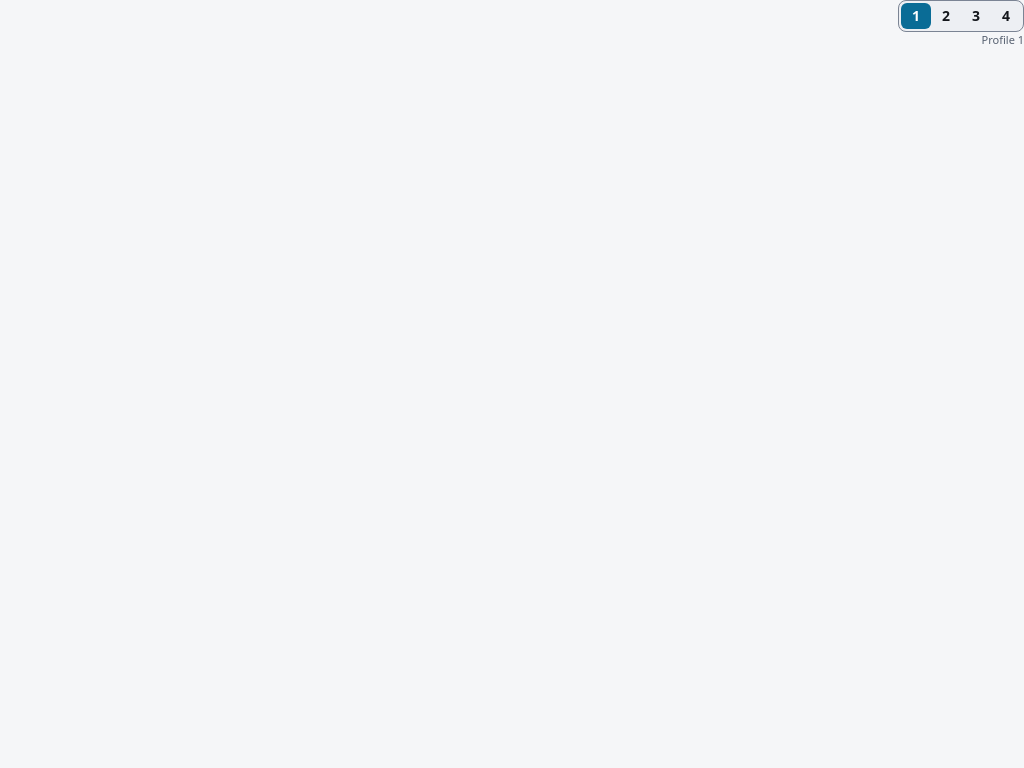
Test: the profile-switch confirmation › lists the unwritten drafts per tab
Click the radio button labelled "2". click: [946, 16]
box: [931,3,961,29]
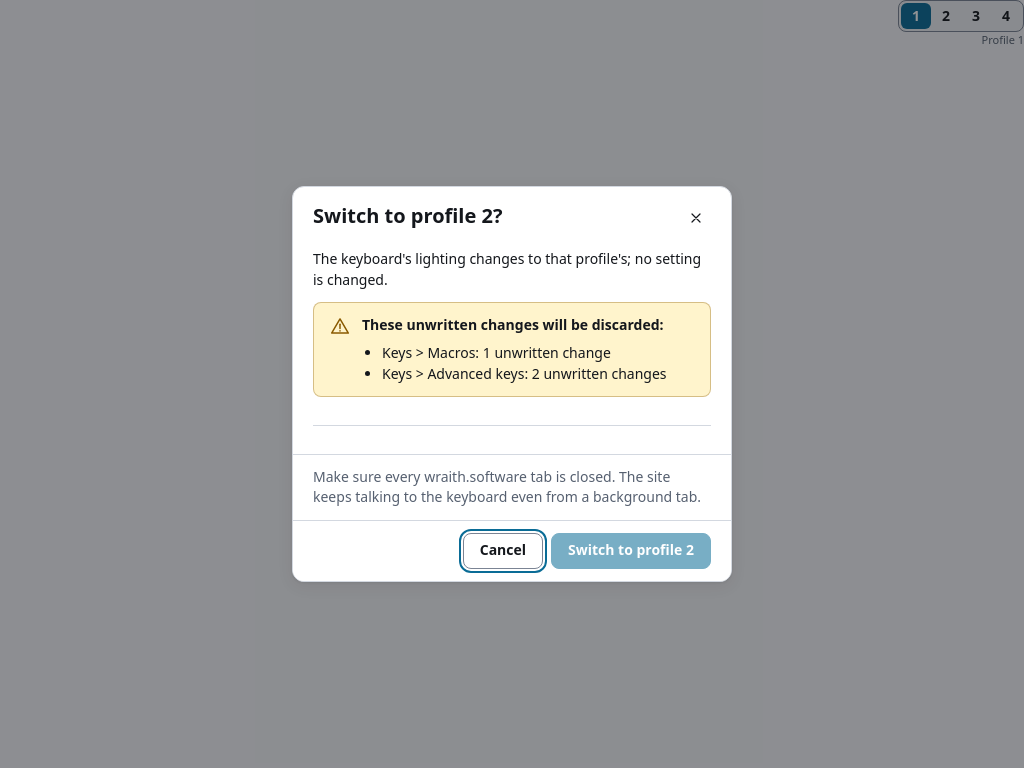
Expected: the text "These unwritten changes will be discarded:" is shown, [362,315,694,335]
Expected: the list item "Keys > Macros: 1 unwritten change" is shown, [382,343,611,362]
Expected: the list item "Keys > Advanced keys: 2 unwritten changes" is shown, [382,364,694,384]
